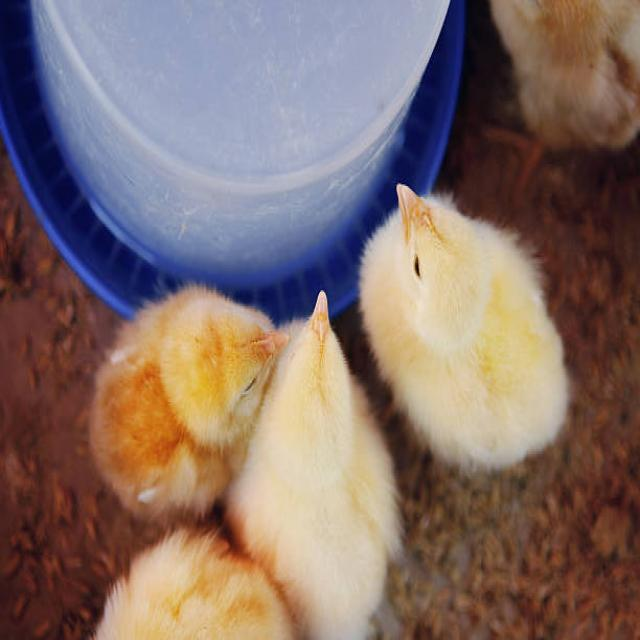Healthy: (349, 171, 574, 465)
